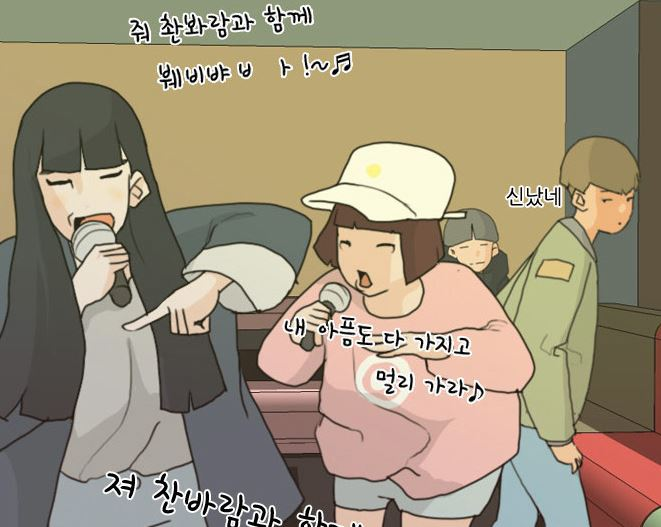hat: (301, 143, 455, 221)
